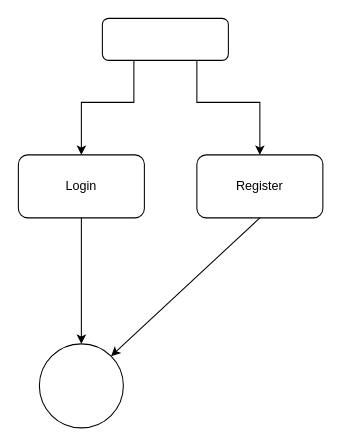
Image size: 341x446. Some labels were removed from this diagram. Here are the shapes that lost their labels. From the top down, the centre of each, then its label:
point 164,38: '/' Home page (logged out)
point 80,385: Session!
